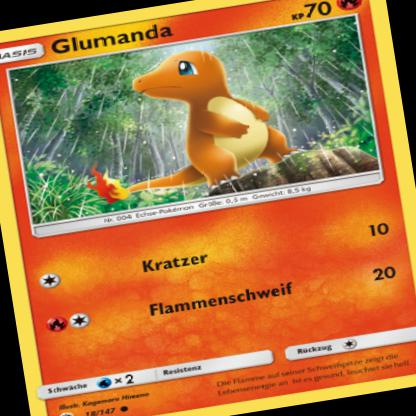Charmander: (96, 38, 293, 200)
